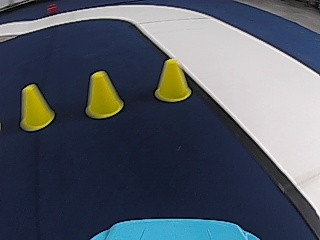cone: (84, 70, 123, 118), (19, 83, 55, 131), (154, 58, 191, 102)
